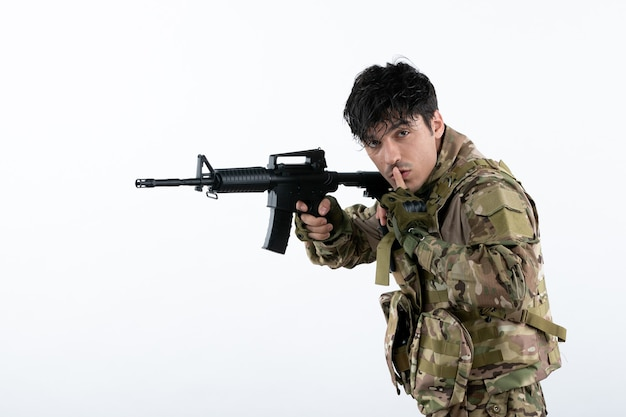gun: (133, 143, 394, 255)
